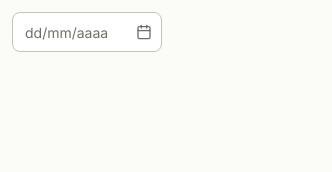
Test: DateInput › aplica a máscara dd/MM/yyyy automaticamente enquanto digita
In the field named "Data de início": (87, 32) [12, 12, 162, 52], type "01012025"
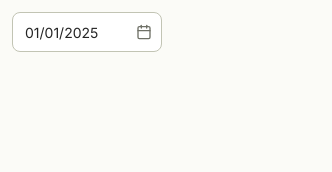
expect the field named "Data de início" holds "01/01/2025": met, box [12, 12, 162, 52]
